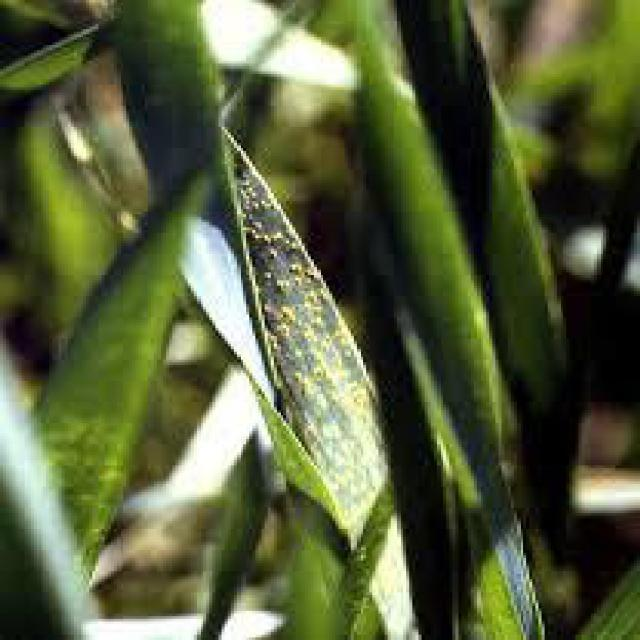wheat-powdery-mildew: (217, 125, 420, 640)
